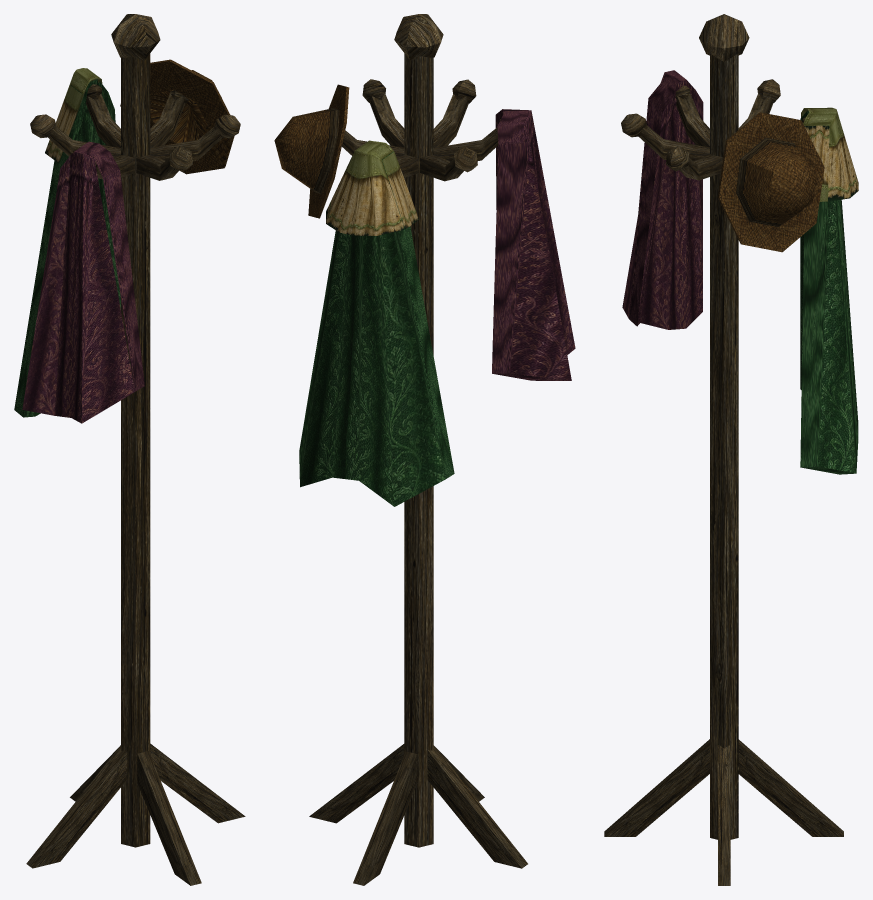
The model's file is mm9_deco_coatrack2.glb.
The picture shows the model from 3 angles, left to right: view 1: azimuth 30°, elevation 25°; view 2: azimuth 150°, elevation 25°; view 3: azimuth 270°, elevation 25°; orthographic projection.
Parts seen in each view (by area): view 1: Coatrack2; view 2: Coatrack2; view 3: Coatrack2.
Boxes of the visible parts, x1,y1,x2,y2 form: Coatrack2: (14, 14, 245, 885); Coatrack2: (274, 14, 575, 885); Coatrack2: (604, 14, 858, 885).
Bounding box in the file's own units: 0.7881 × 2.57 × 0.7234.
Materials: 2 (2 with a texture image).
